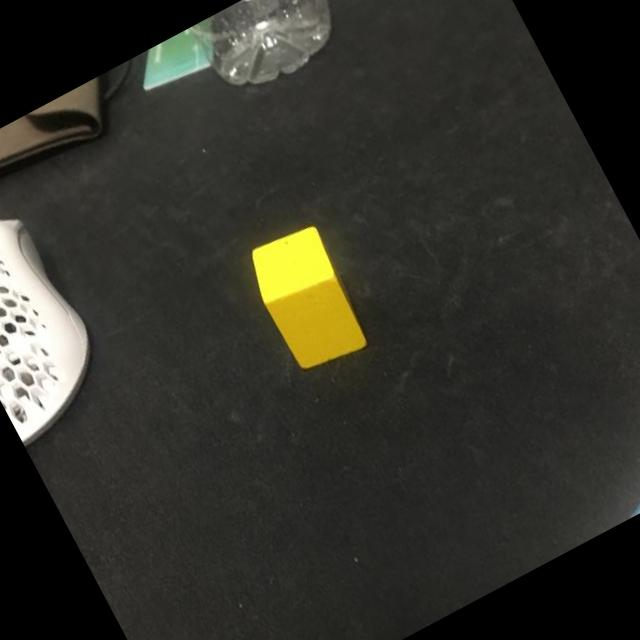yellow: (240, 218, 377, 378)
